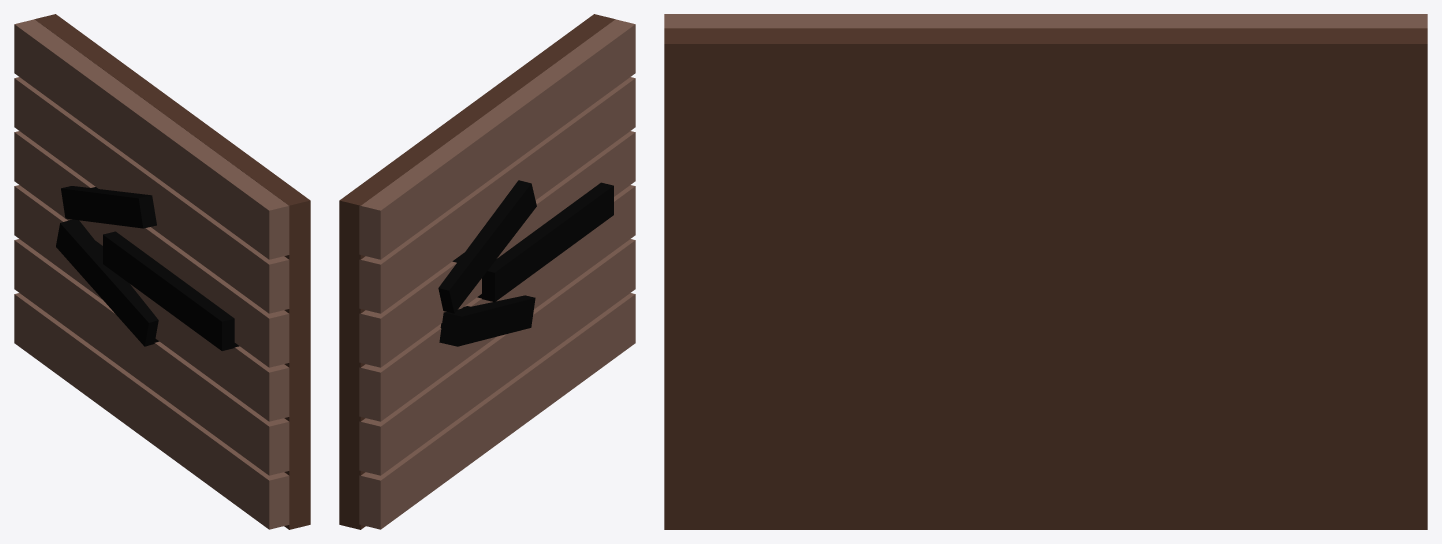
Rendered from hangingSign.fbx.
3 views of the same model, side by side, from view 1: azimuth 30°, elevation 25°; view 2: azimuth 150°, elevation 25°; view 3: azimuth 270°, elevation 25° (orthographic). The views are drawn at different scales.
Visible parts, largest first — view 1: Cube.010; view 2: Cube.010; view 3: Cube.010.
Part boxes in pixels (x1=…): Cube.010: x1=14, y1=14, x2=310, y2=529; Cube.010: x1=339, y1=14, x2=635, y2=529; Cube.010: x1=664, y1=14, x2=1427, y2=529.
Size of the model in its own units: 74.76 by 392 by 558.
